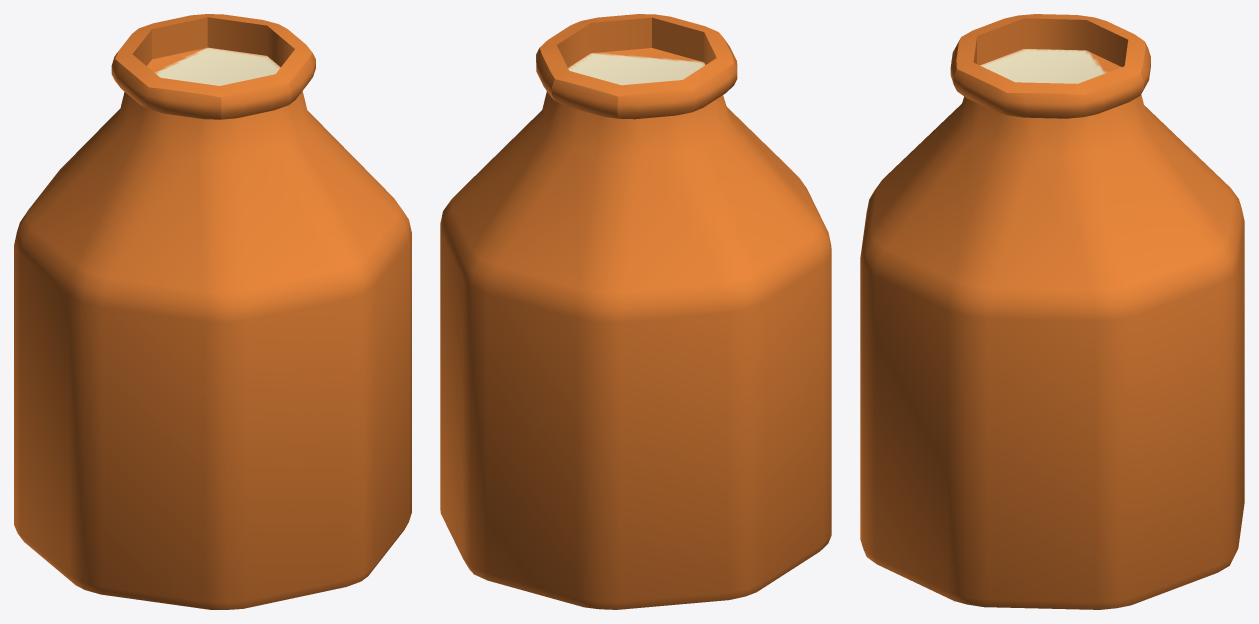
File: Shelf Item (3).fbx
3 renders of one model, left to right at view 1: azimuth 30°, elevation 25°; view 2: azimuth 150°, elevation 25°; view 3: azimuth 270°, elevation 25°, orthographic.
Visible parts, largest first — view 1: Object121; view 2: Object121; view 3: Object121.
Part boxes in pixels (<box>): Object121: <box>14,14,411,609</box>; Object121: <box>440,14,831,609</box>; Object121: <box>860,14,1244,609</box>.
Bounding box in the file's own units: 8.76 × 12.15 × 8.76.
